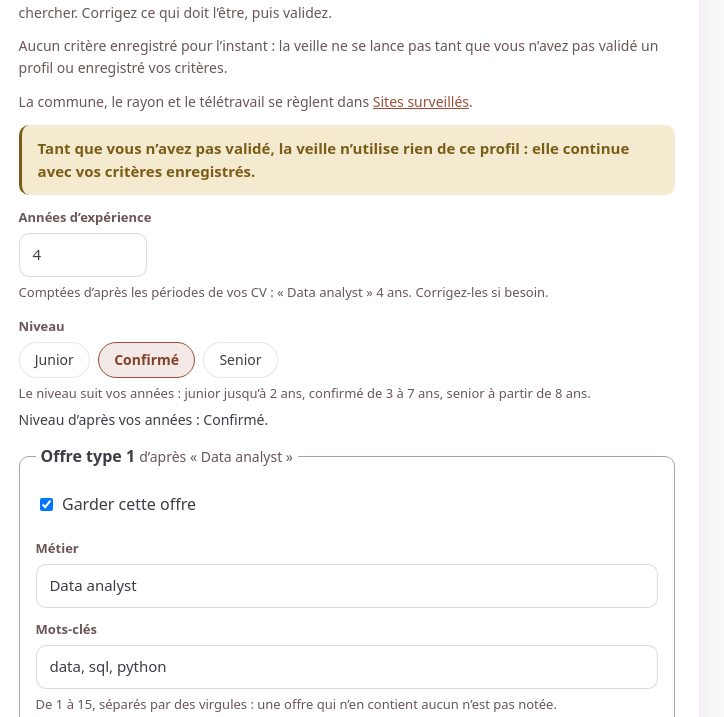
Test: WatchSettings — the deduced profile to validate (EF-VEI-43 to EF-VEI-47) › [EF-VEI-47] lets the candidate give years again after picking a level by hand: the level follows once more
(page scrolled)
Click the radio button labelled "Senior" at (240, 360), box [203,342,278,378]
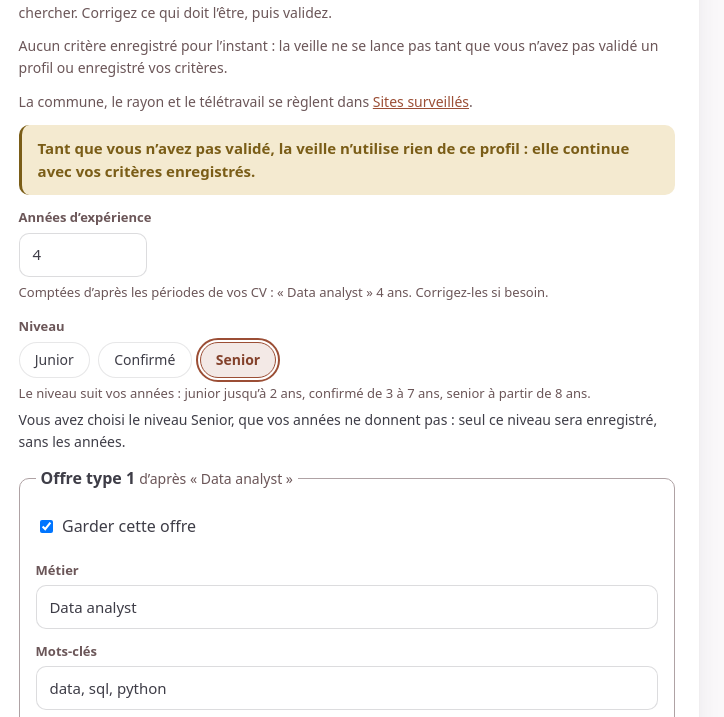
Replace the text in the number field labelled "Années d’expérience" with "1" at (83, 255), box [19,233,147,277]
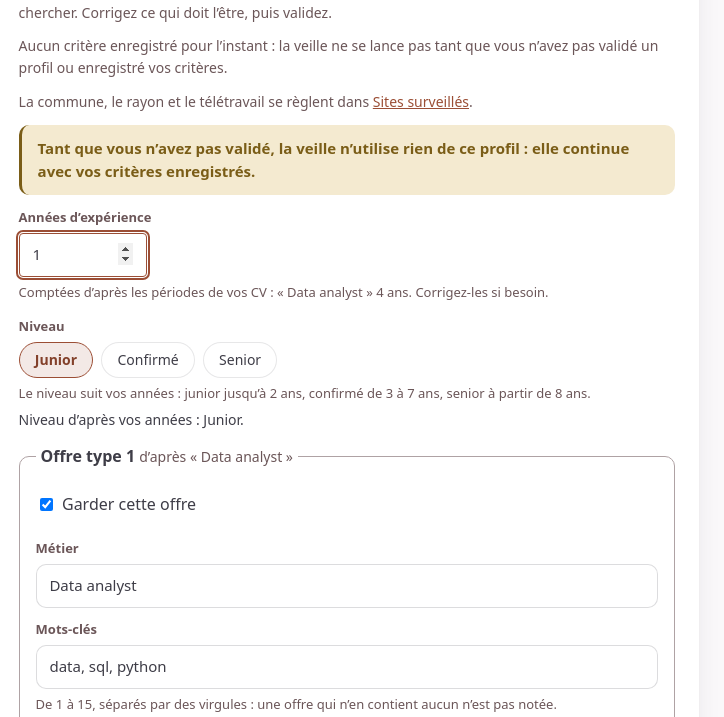
Expected: the text "que vos années ne donnent pas" is not shown
Expected: the radio button labelled "Junior" is checked, [19,342,93,378]
